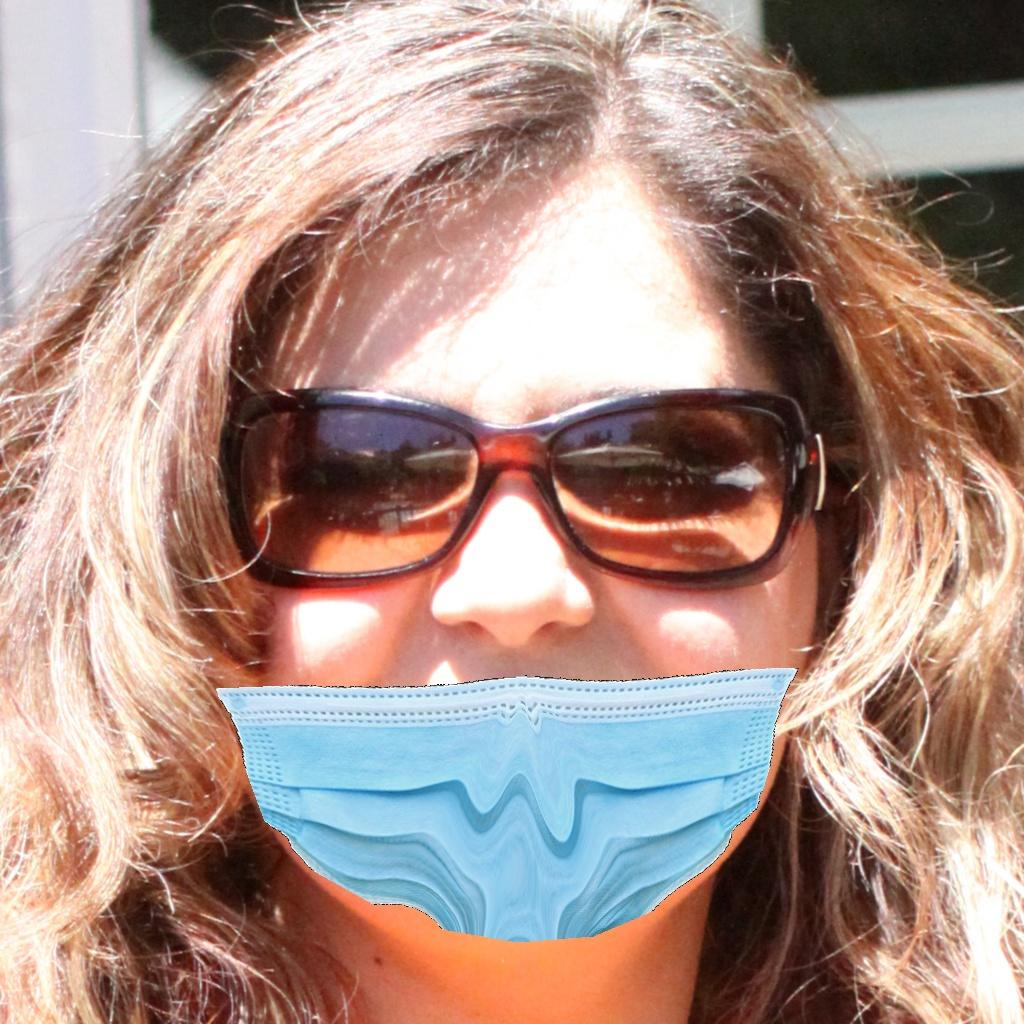Máscara Incorreta: (241, 310, 796, 941)
